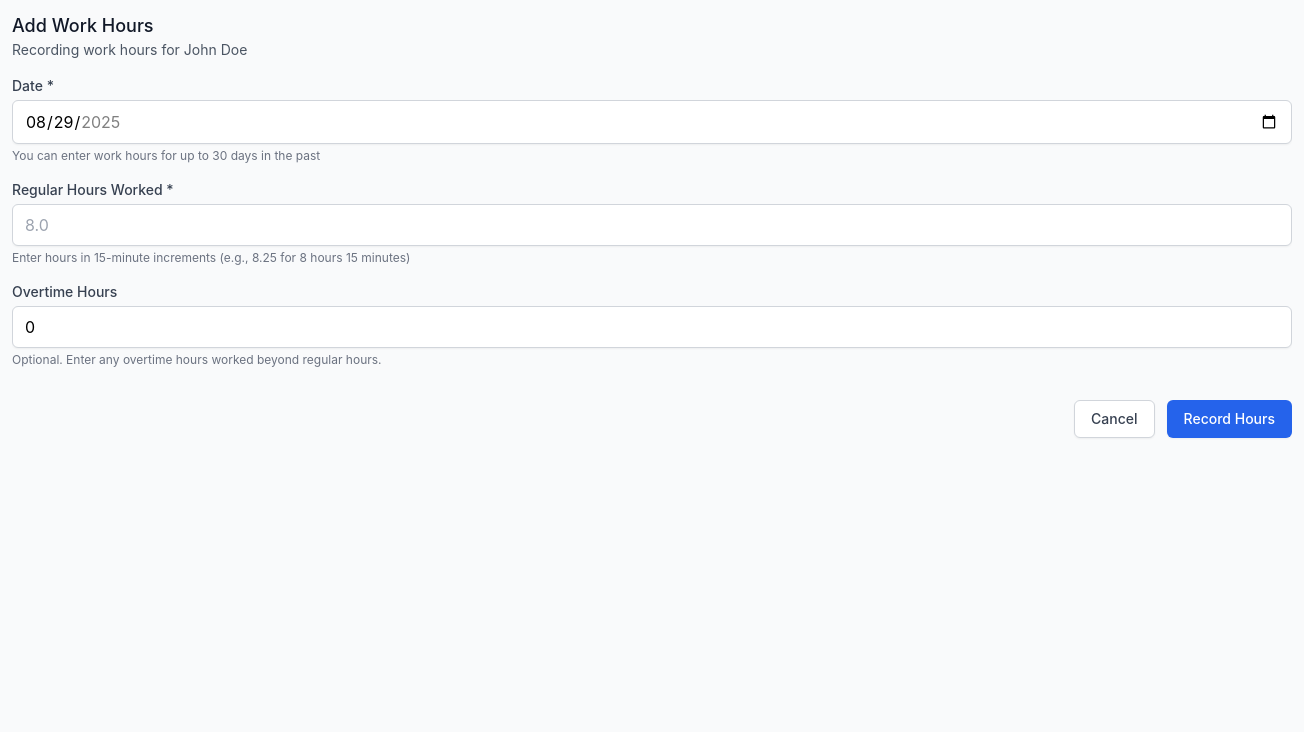
it: Staff Management Integration › WorkHourEntry Component › should validate total hours (regular + overtime)
This screenshot has width=1304, height=732.
Note: Enter hours that exceed 24 total
In the number field labelled "Regular Hours Worked *": [652, 225] box [12,204,1292,246], type "20"
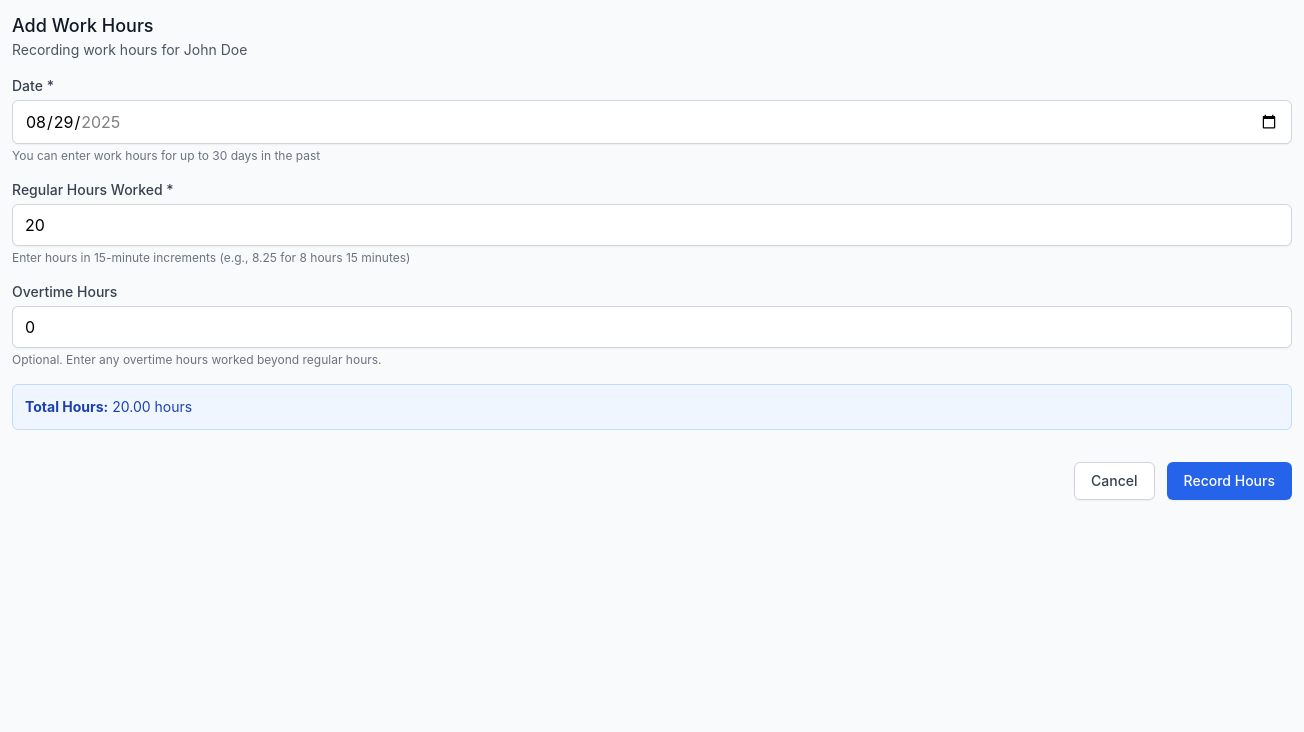
In the number field labelled "Overtime Hours": [652, 327] box [12,306,1292,348], type "8"
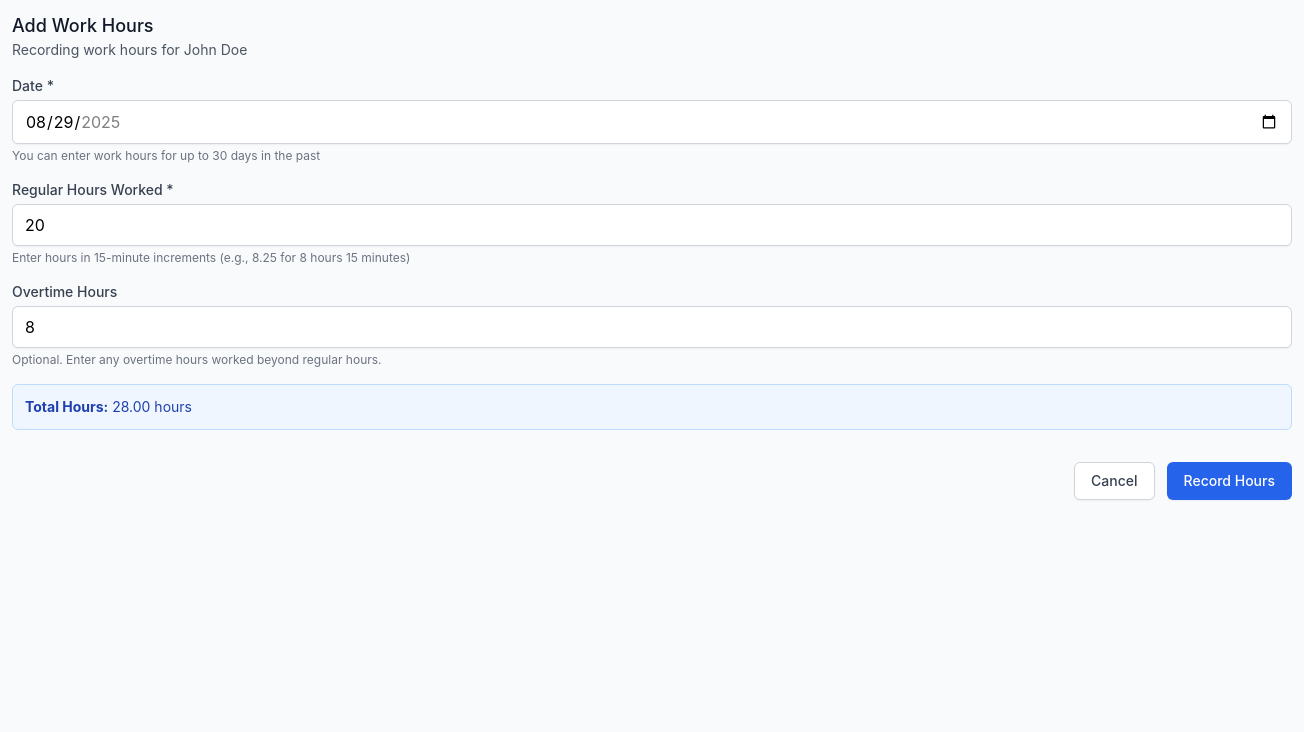
Click the button "Record Hours": [1229, 481] box [1167,462,1292,500]
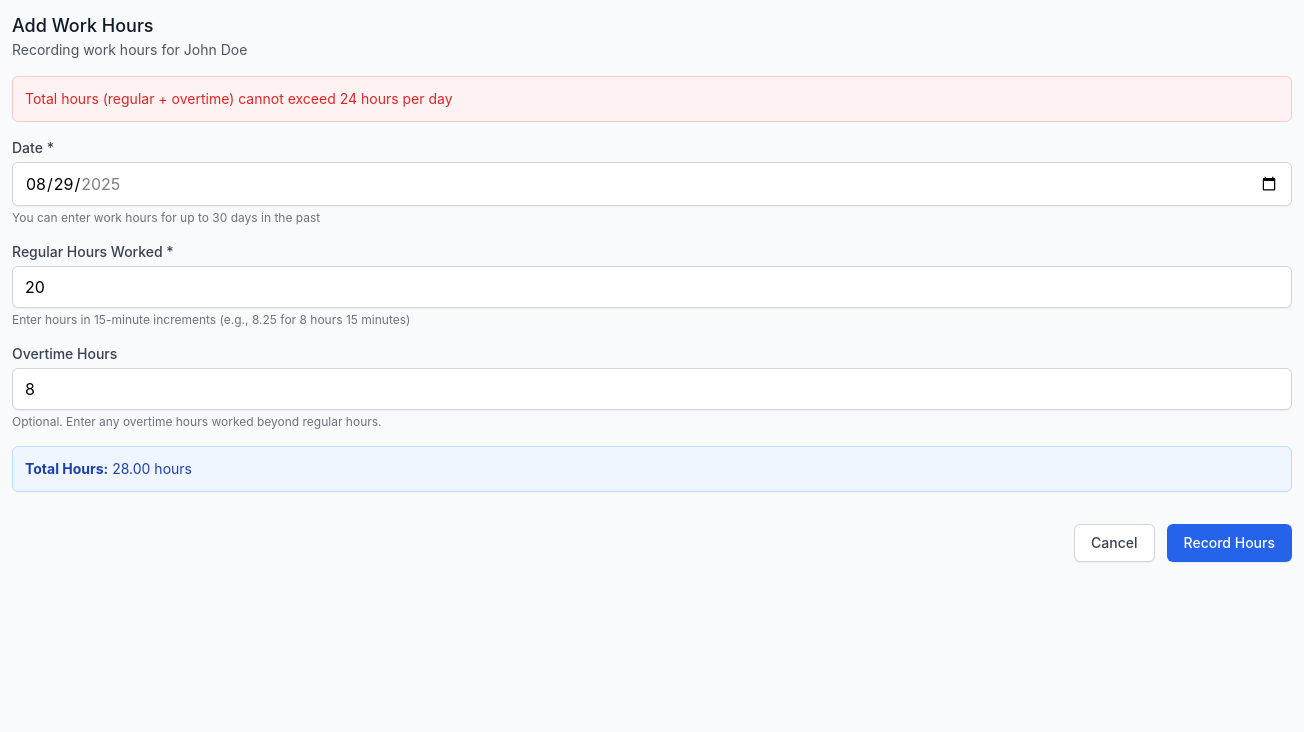
expect the text "Total hours (regular + overtime) cannot exceed 24 hours per day" is shown: met, box [25,90,453,107]
